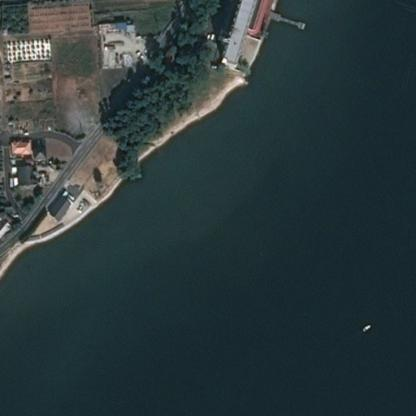ship: (354, 320, 377, 336)
